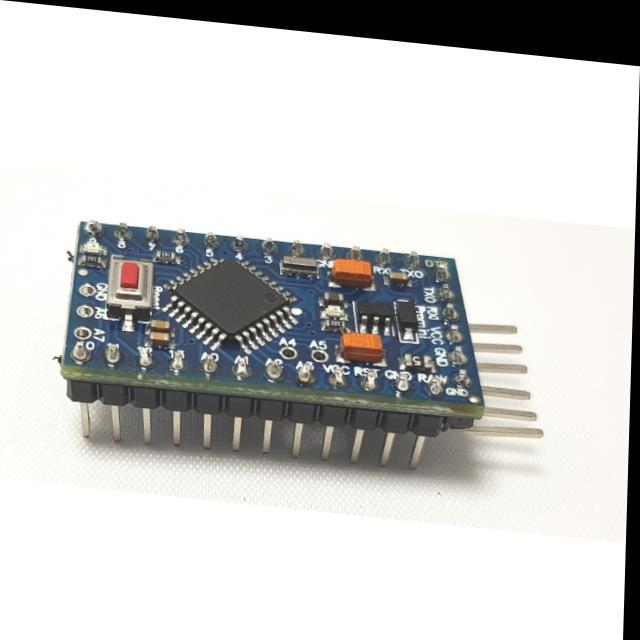Arduino-ProMini: (62, 222, 485, 438)
